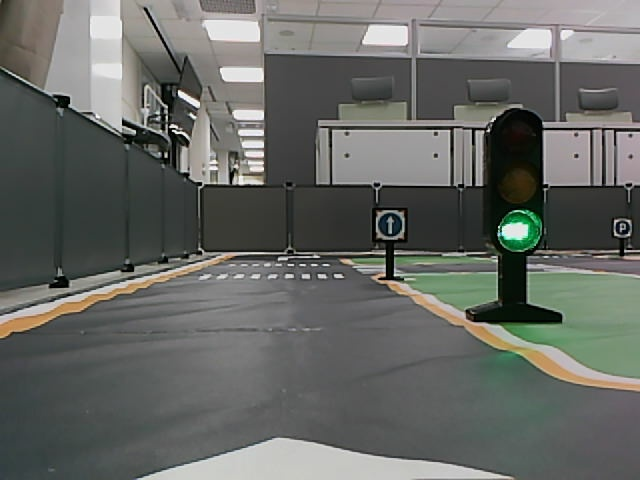crosswalk: (197, 271, 346, 282)
go: (377, 212, 403, 237)
green: (497, 211, 544, 251)
park: (613, 220, 631, 237)
